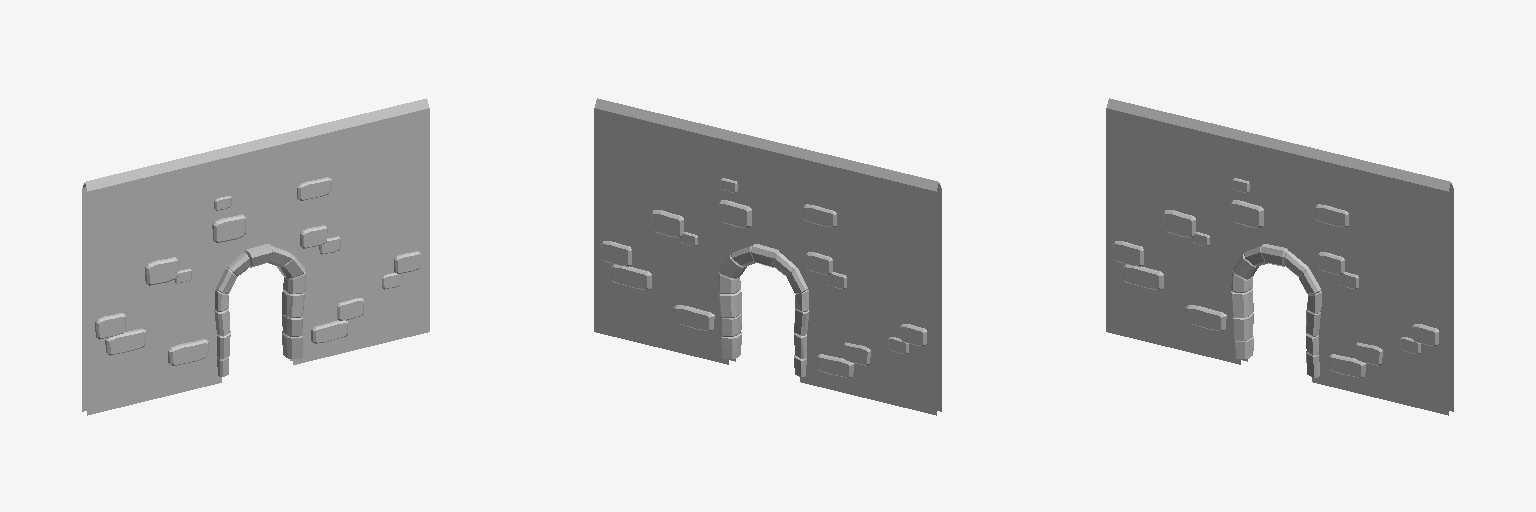
Rendered from Dungeon_Big_Passage.obj.
3 renders of one model, left to right at view 1: azimuth 30°, elevation 25°; view 2: azimuth 150°, elevation 25°; view 3: azimuth 330°, elevation 25°, orthographic.
Visible parts, largest first — view 1: Dungeon_Big_Passage; view 2: Dungeon_Big_Passage; view 3: Dungeon_Big_Passage.
Boxes of the visible parts, x1,y1,x2,y2 form: Dungeon_Big_Passage: [82, 98, 429, 415]; Dungeon_Big_Passage: [594, 98, 941, 415]; Dungeon_Big_Passage: [1106, 98, 1453, 415].
Size of the model in its own units: 8 by 5.18 by 0.6011.